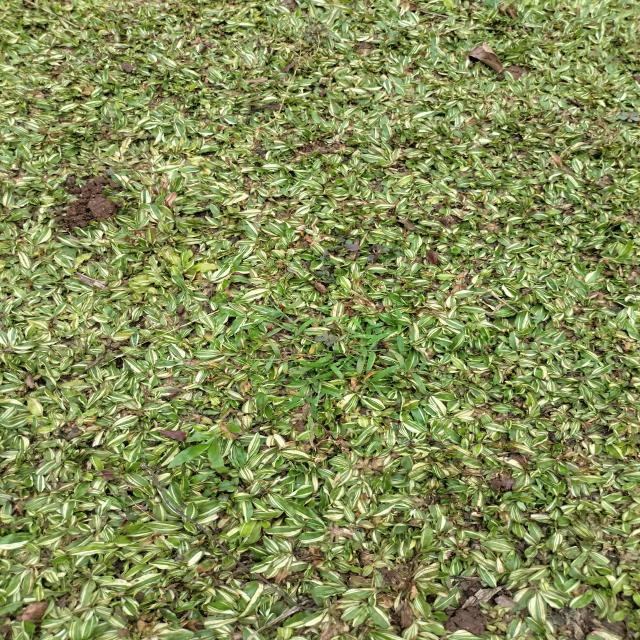buah daun: (302, 22, 343, 45), (376, 15, 400, 46), (618, 110, 640, 124)
rambat atas: (301, 355, 346, 414), (346, 317, 386, 379), (239, 306, 305, 337), (411, 362, 434, 395), (250, 356, 287, 370)
rambat bawah: (168, 430, 228, 472)
ungu tunggang: (322, 241, 394, 263), (202, 479, 243, 500), (312, 268, 346, 286)
